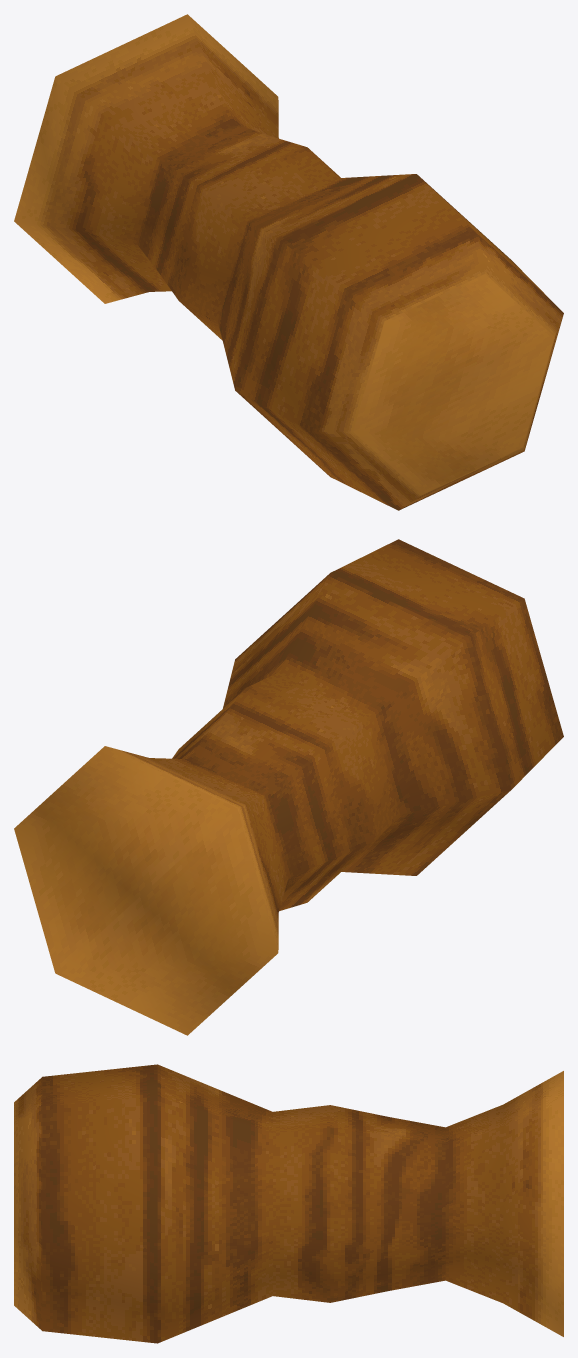
Rendered from SM_AP_Pillar_9m_1.glb.
3 renders of one model, top to bottom at view 1: azimuth 30°, elevation 25°; view 2: azimuth 150°, elevation 25°; view 3: azimuth 270°, elevation 25°, orthographic. The views are drawn at different scales.
Parts seen in each view (by area): view 1: SM_AP_Pillar_9m_1; view 2: SM_AP_Pillar_9m_1; view 3: SM_AP_Pillar_9m_1.
Part boxes in pixels (bbox=[...]): SM_AP_Pillar_9m_1: bbox=[14, 14, 563, 510]; SM_AP_Pillar_9m_1: bbox=[14, 539, 563, 1035]; SM_AP_Pillar_9m_1: bbox=[14, 1064, 563, 1343].
Bounding box in the file's own units: 9.92 × 9.67 × 19.11.
Materials: 1 (1 with a texture image).
